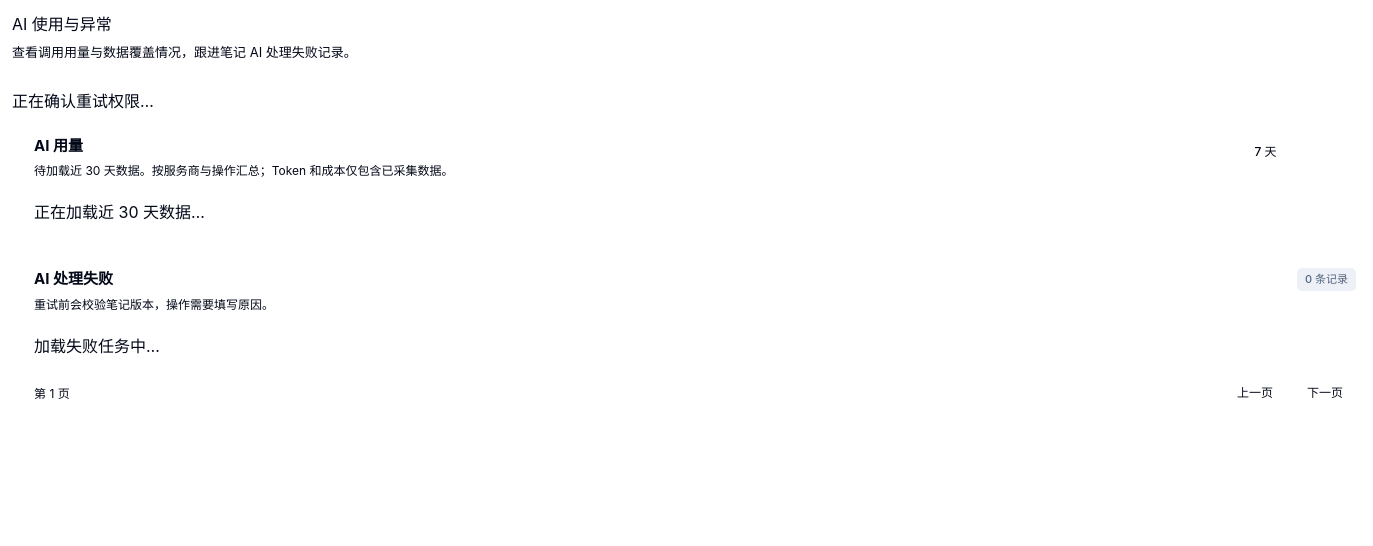
AiPage › keeps the newest usage response when range requests resolve out of order
Click the button "7 天".
click(1266, 152)  # box [1242,134,1290,170]
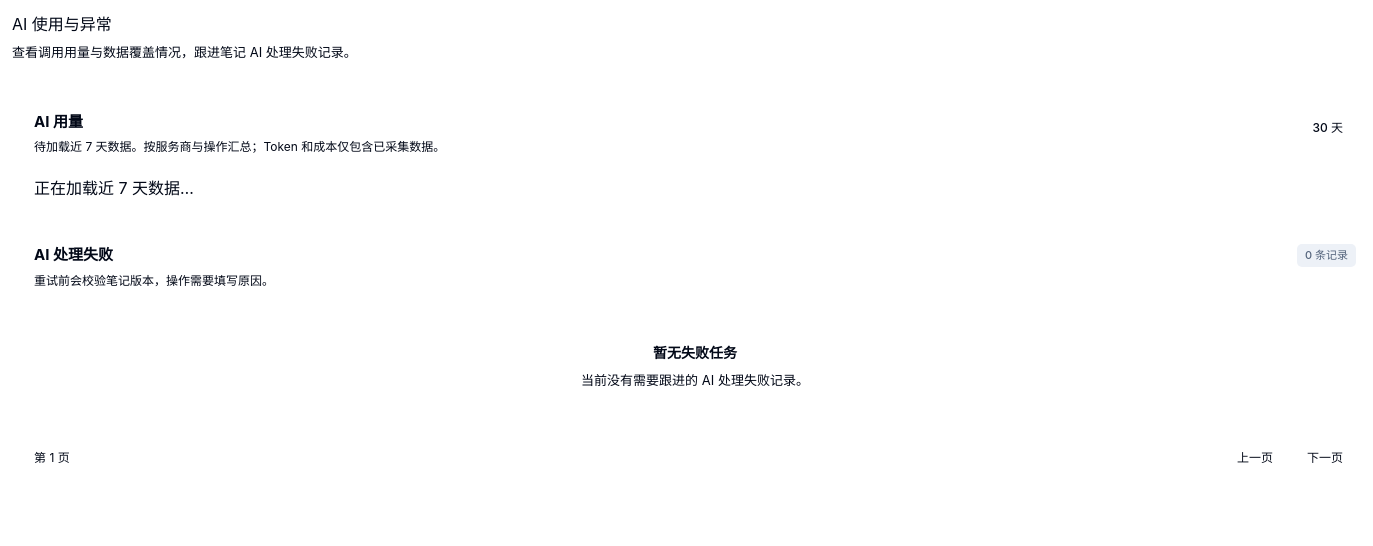
Click the button "30 天".
click(1328, 128)  # box [1300,110,1356,146]
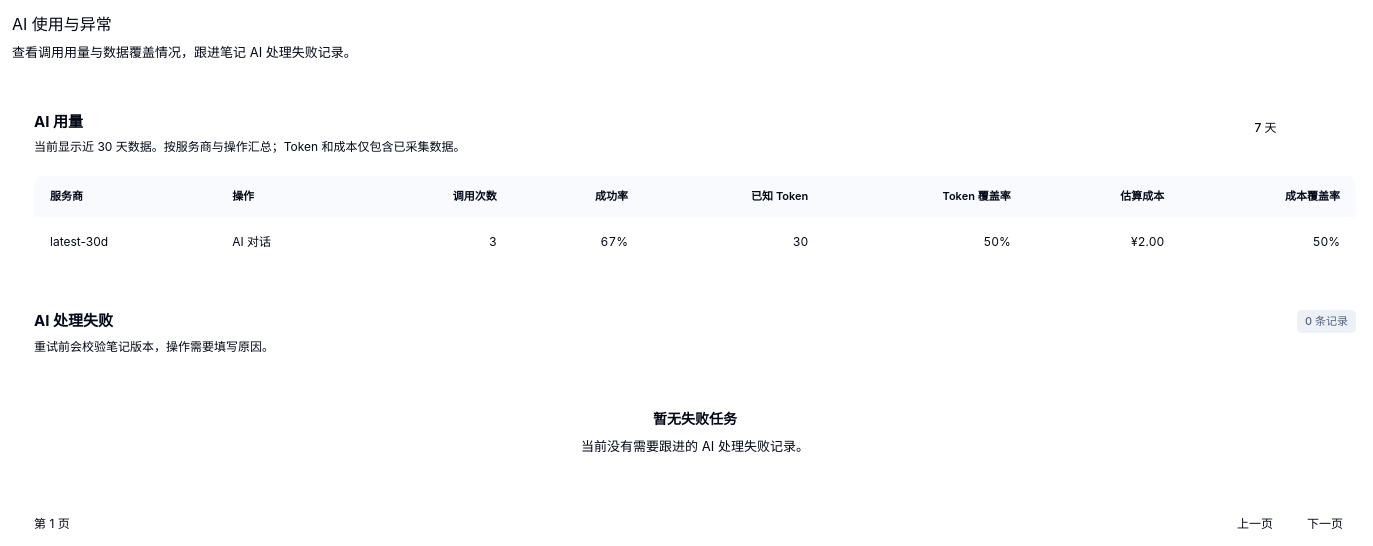
Check: the text "latest-30d" is shown, box [34,216,216,266]
